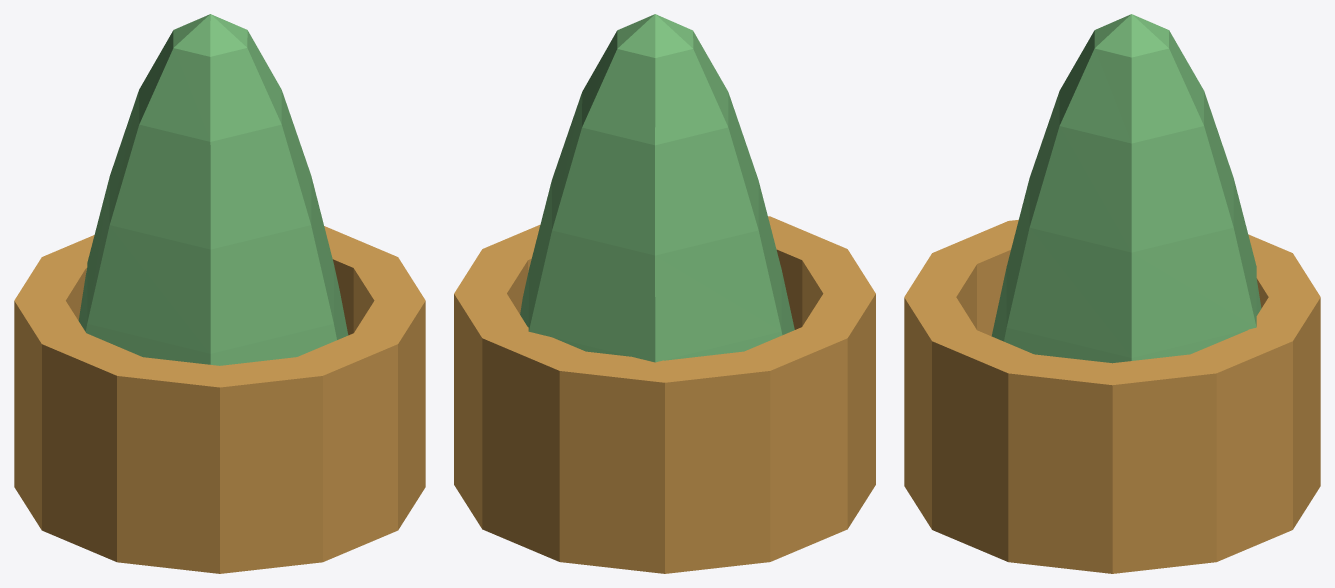
Rendered from plant_7.glb.
3 renders of one model, left to right at view 1: azimuth 30°, elevation 25°; view 2: azimuth 150°, elevation 25°; view 3: azimuth 270°, elevation 25°, orthographic. The views are drawn at different scales.
Parts seen in each view (by area): view 1: Mesh_Mesh_head_geo.001_lambert2SG.001; view 2: Mesh_Mesh_head_geo.001_lambert2SG.001; view 3: Mesh_Mesh_head_geo.001_lambert2SG.001.
Boxes of the visible parts, x1,y1,x2,y2 form: Mesh_Mesh_head_geo.001_lambert2SG.001: (14,14,425,573); Mesh_Mesh_head_geo.001_lambert2SG.001: (454,14,875,573); Mesh_Mesh_head_geo.001_lambert2SG.001: (904,14,1320,573).
Bounding box in the file's own units: 1 × 1.25 × 1.
